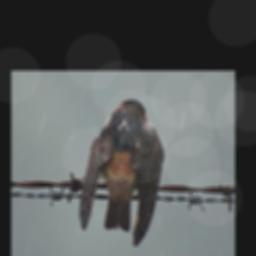Swallow: (78, 98, 165, 248)
